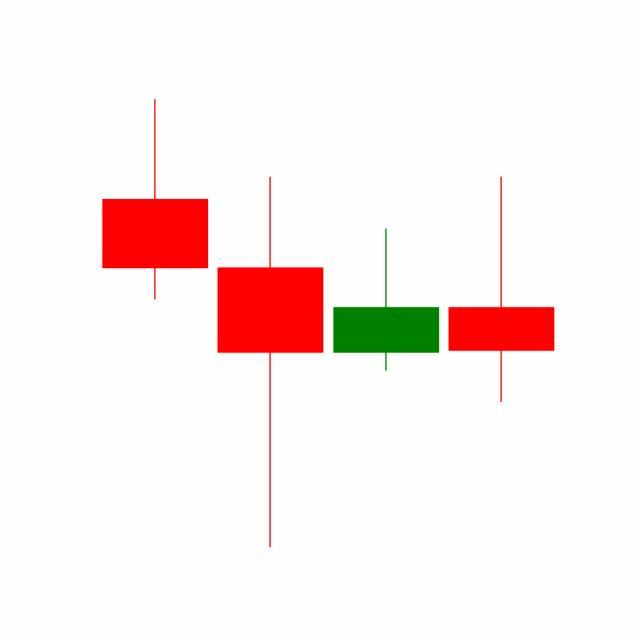Gravestone Doji: (329, 226, 445, 373)
